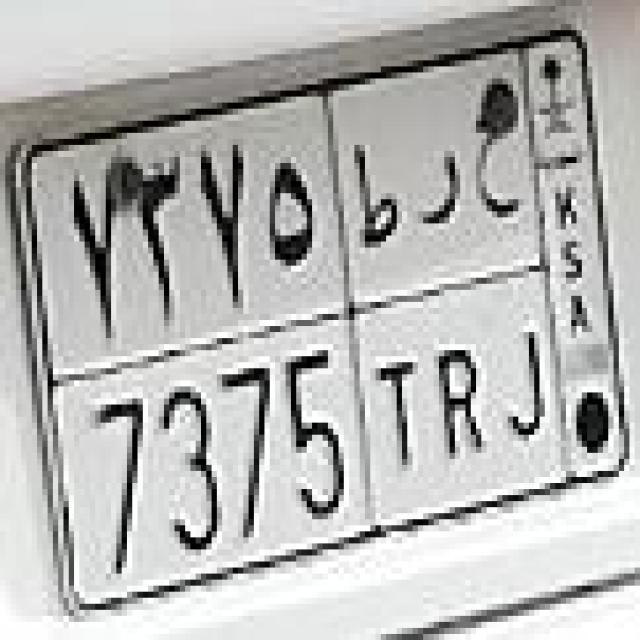license_plate: (16, 27, 632, 610)
